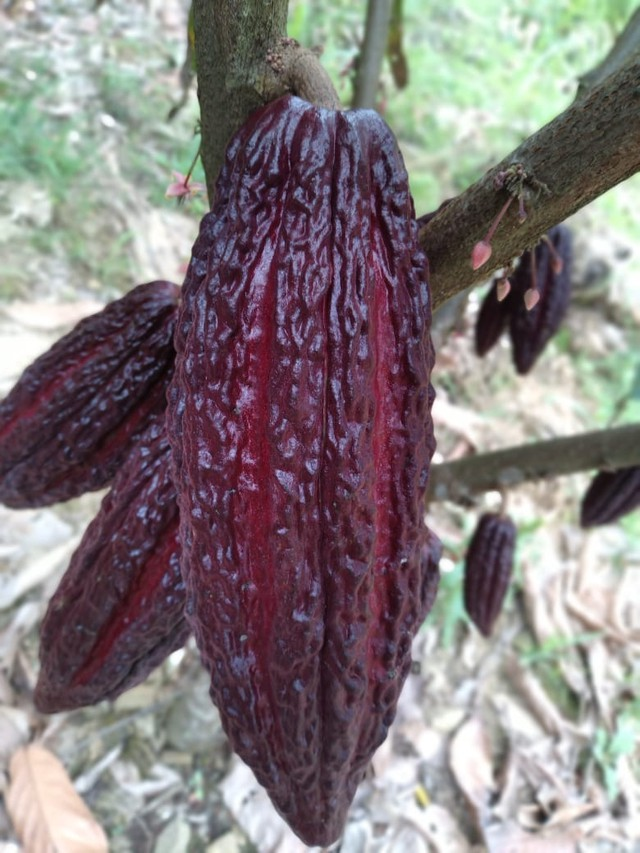Health: (151, 65, 452, 853)
